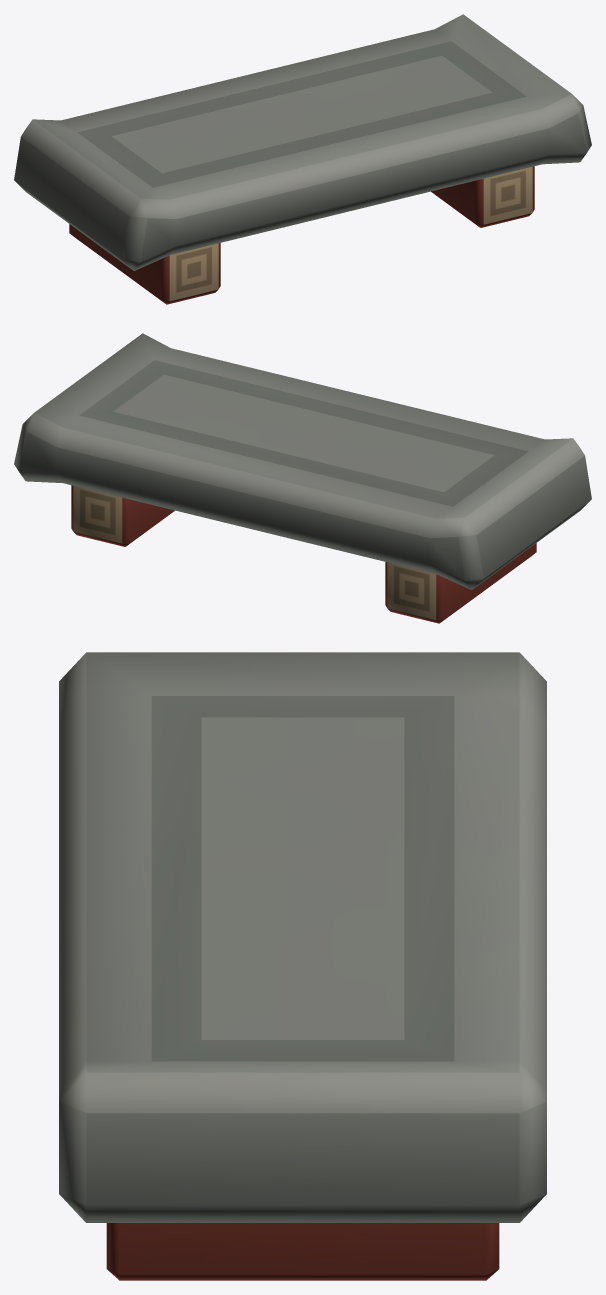
Rendered from bench_karate_temple.fbx.
3 views of the same model, one above another, from view 1: azimuth 30°, elevation 25°; view 2: azimuth 150°, elevation 25°; view 3: azimuth 270°, elevation 25° (orthographic). The views are drawn at different scales.
Parts seen in each view (by area): view 1: bench_karate_temple; view 2: bench_karate_temple; view 3: bench_karate_temple.
Boxes of the visible parts, box(x1,y1,x2,y2) form: bench_karate_temple: box(14, 14, 591, 304); bench_karate_temple: box(14, 333, 591, 623); bench_karate_temple: box(59, 652, 546, 1280).
Size of the model in its own units: 299 by 73.32 by 135.
1 material, 1 textured.
